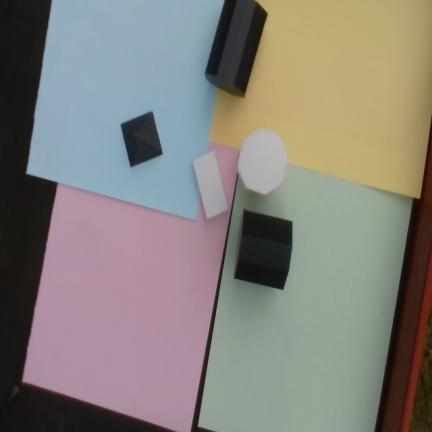Paralelepipedo: (234, 210, 292, 289), (193, 150, 229, 220)
Piramide: (120, 111, 163, 168)
Prisma_hexagonal: (205, 0, 268, 98), (236, 128, 288, 194)
